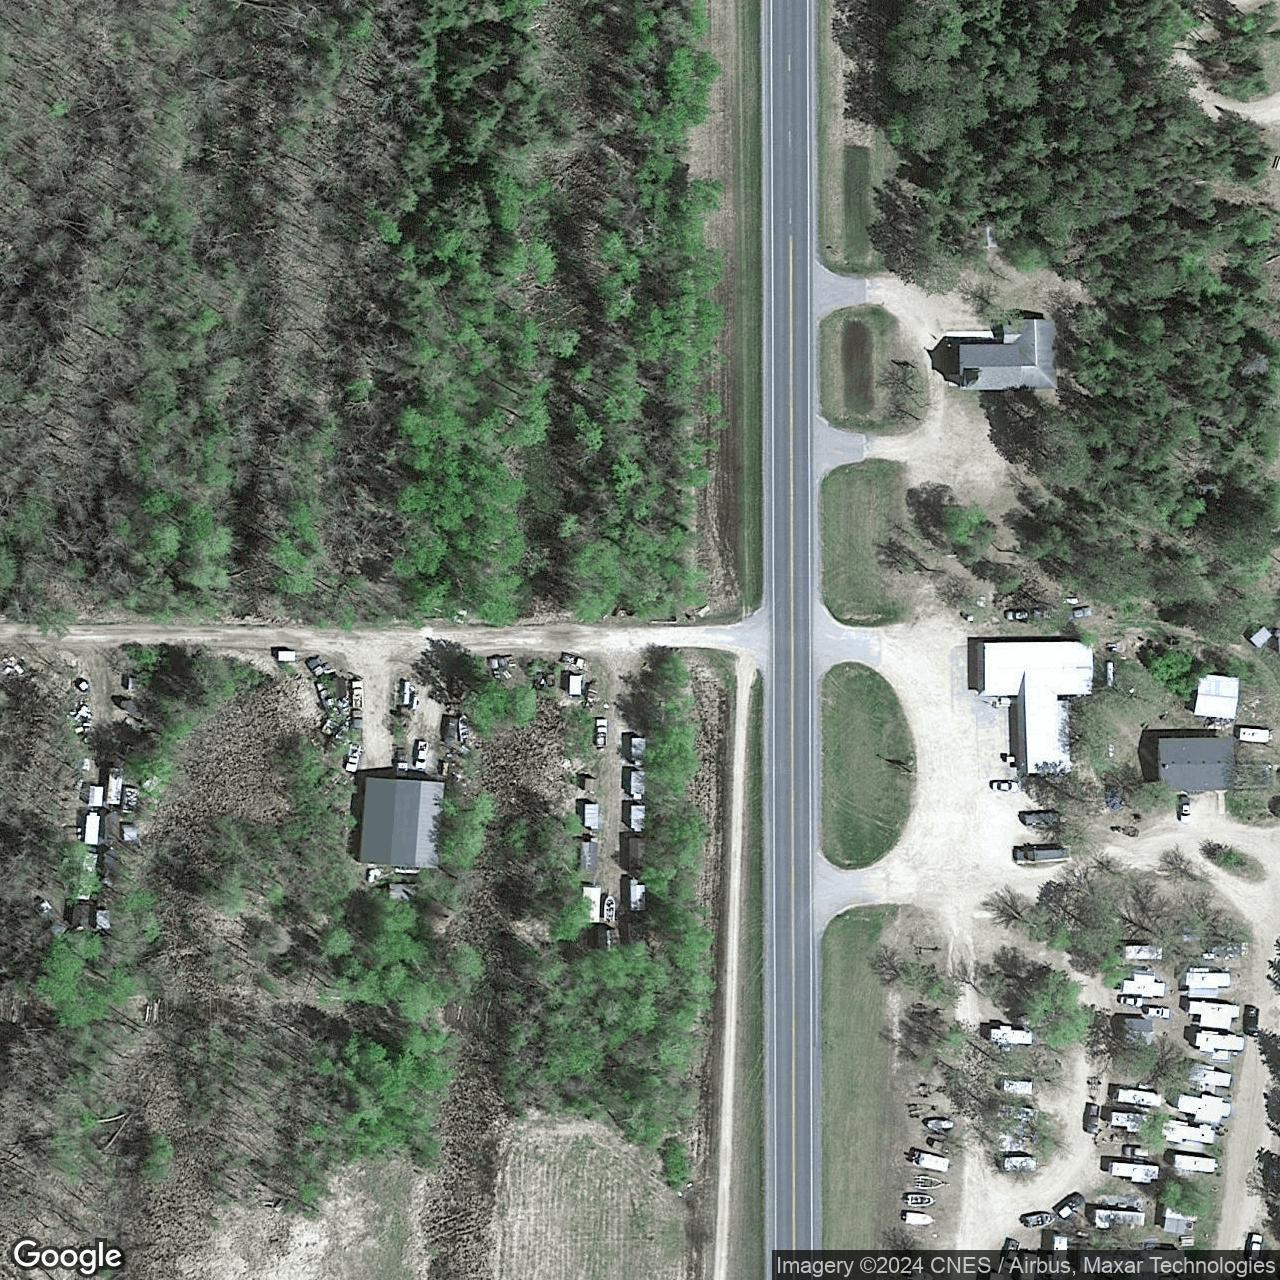Garage: (360, 777, 445, 871), (1193, 674, 1239, 719)
House: (982, 641, 1094, 772), (959, 319, 1058, 390), (1157, 737, 1235, 791)
Propane: (1107, 661, 1114, 687)
Trailer: (1178, 1094, 1231, 1125), (1196, 1030, 1244, 1060), (1190, 1002, 1240, 1029), (1162, 1119, 1214, 1144), (1185, 972, 1231, 998), (1110, 1162, 1159, 1183), (1123, 974, 1165, 998), (1111, 1112, 1155, 1133), (990, 1026, 1033, 1047), (1175, 1155, 1219, 1172), (1118, 1089, 1162, 1107), (1125, 946, 1162, 959)
